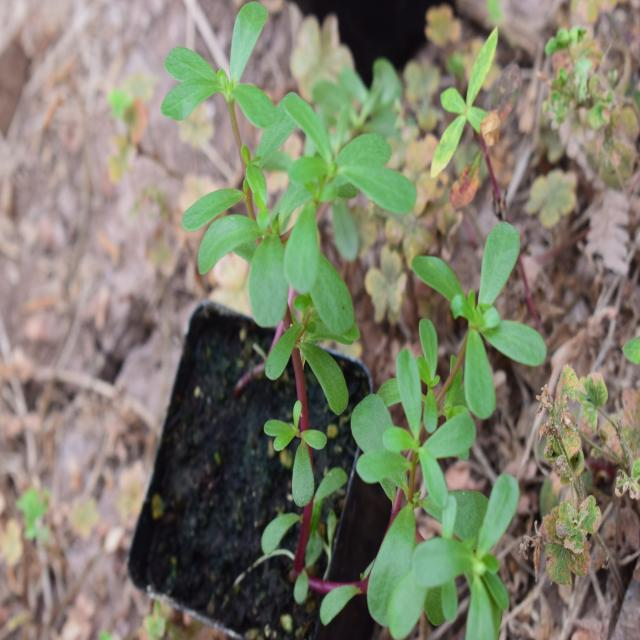purslane: (156, 12, 528, 638)
